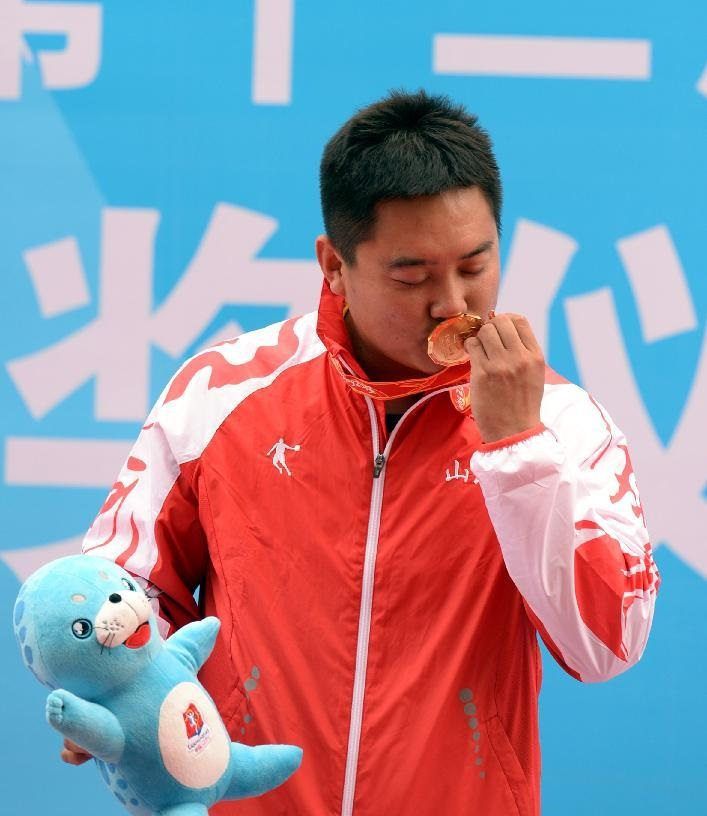face: (351, 179, 500, 374)
